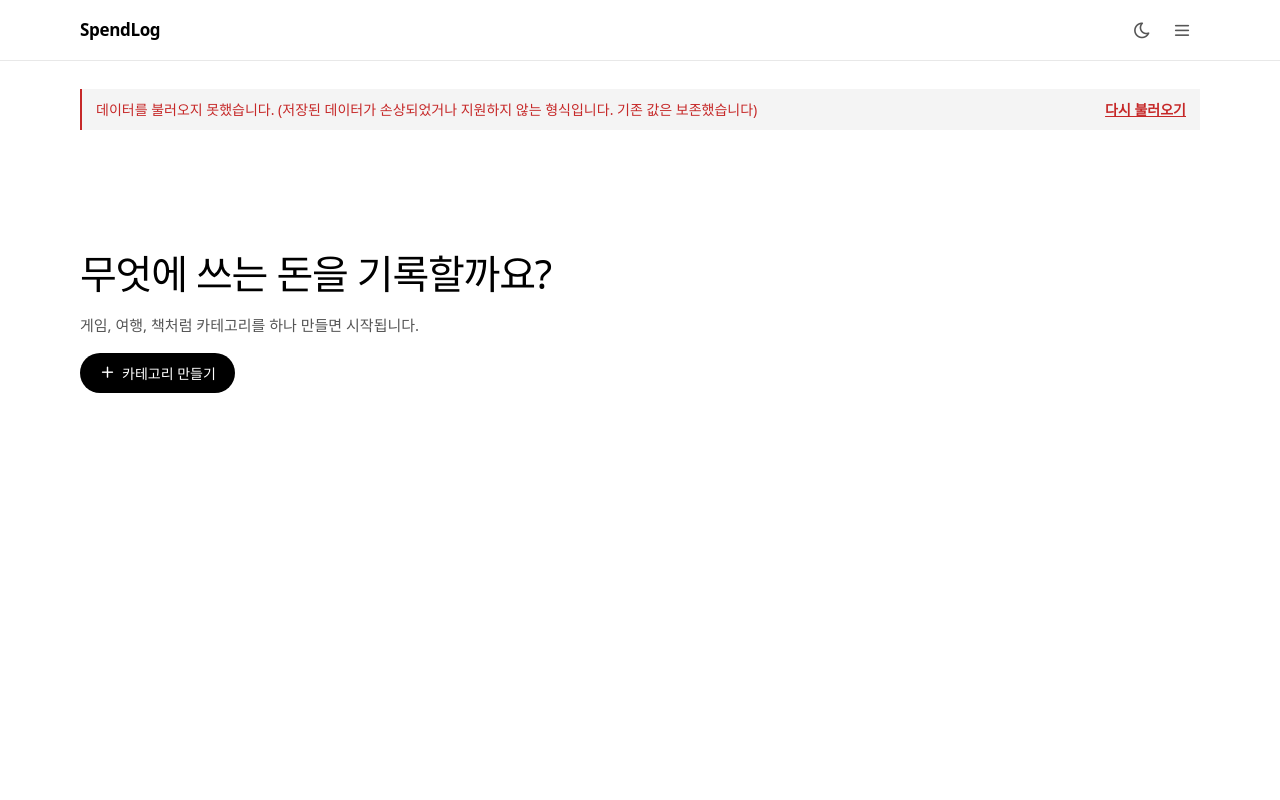
App with browser storage › locks changes and backup when stored data is corrupted, keeping the stored value
Expected: the text "데이터를 불러오지 못했습니다. (저장된 데이터가 손상되었거나 지원하지 않는 형식입니다. 기존 값은 보존했습니다) 다시 불러오기" is shown, 80,89 -> 1200,130
Step 1. Click the button named "메뉴" → (1182, 30), box 1164,12 -> 1200,48
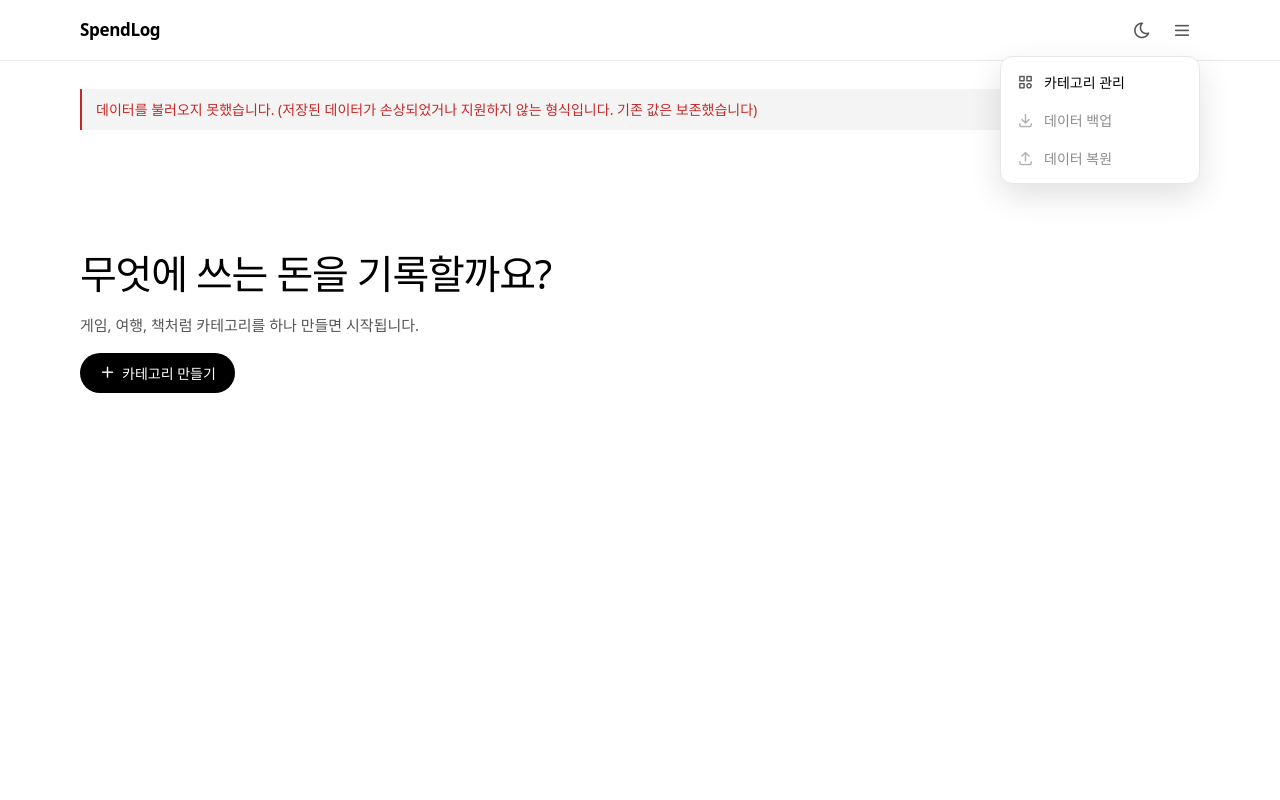
Result: the menu item "데이터 백업" is disabled at 1007,101 -> 1193,139
Result: the menu item "데이터 복원" is disabled at 1007,139 -> 1193,177
Step 2. Click the menu item "카테고리 관리" → (1100, 82), box 1007,63 -> 1193,101
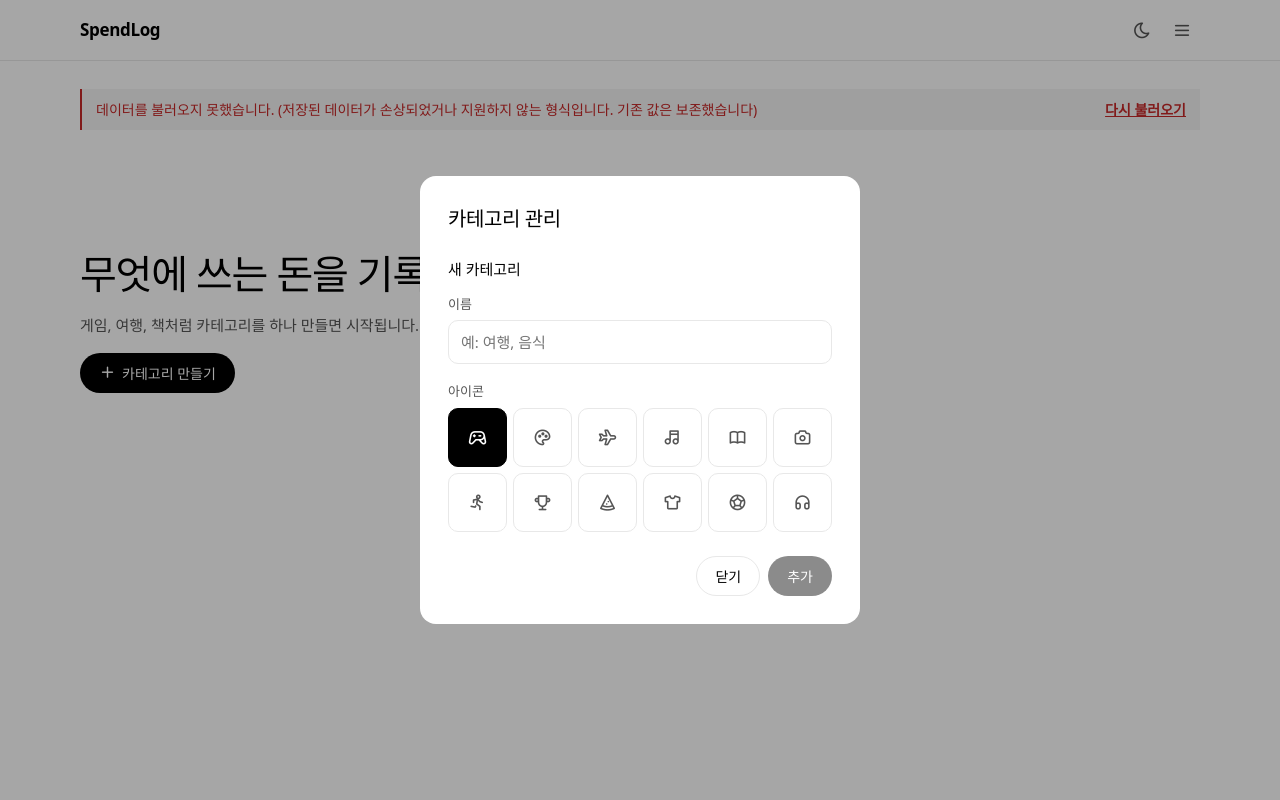
Result: the button "추가" is disabled at 768,556 -> 832,596
